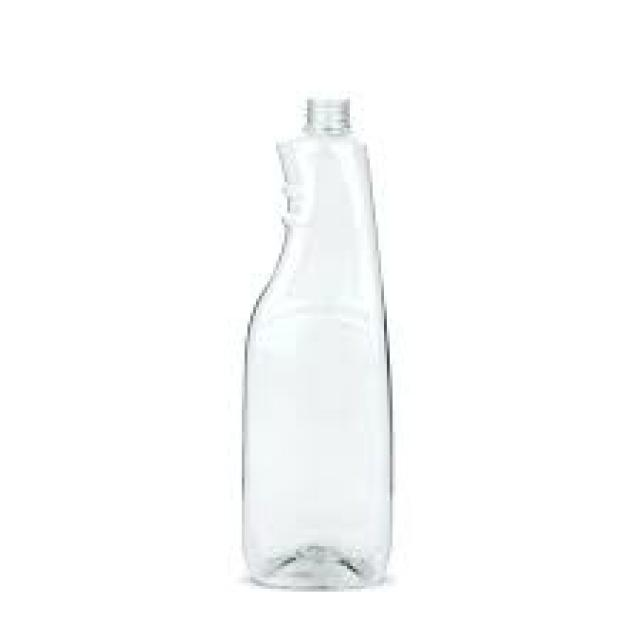Glass-Non-Biodegradable but Recyclable-: (238, 99, 393, 592)
